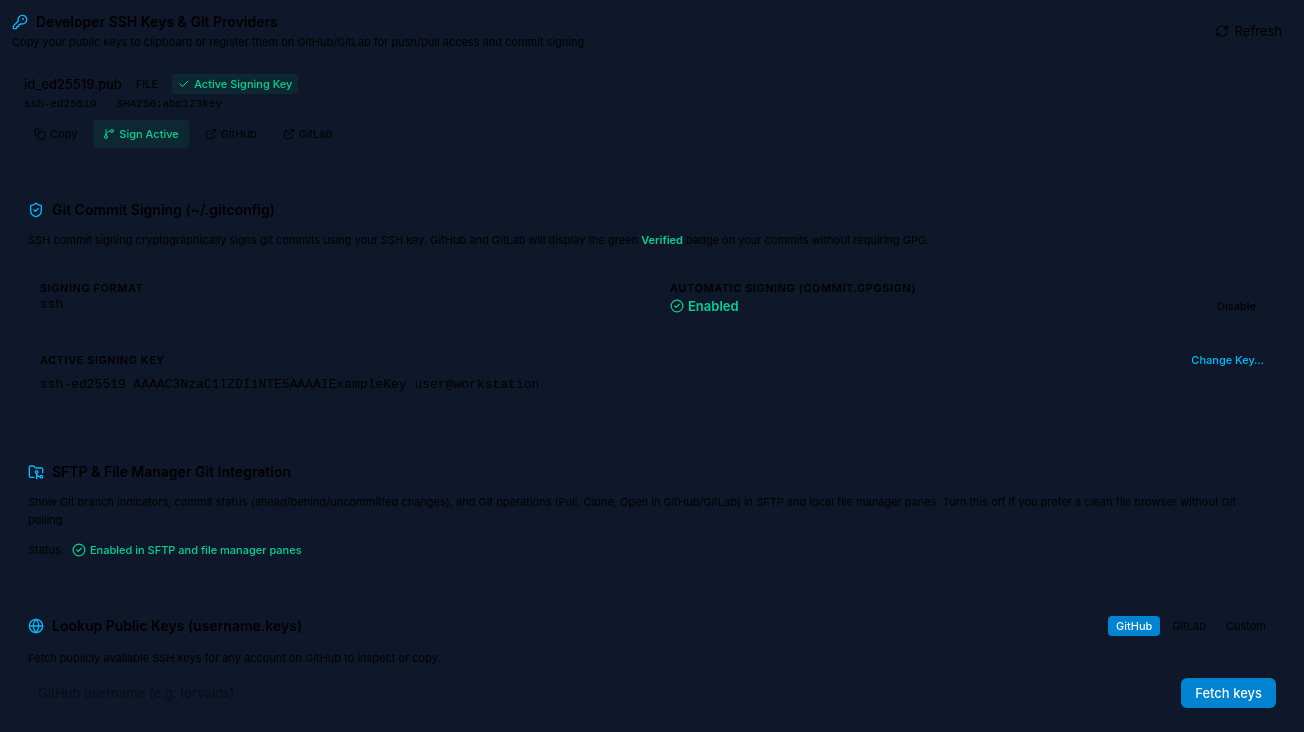
Test case: GitSettingsPanel › copies key to clipboard when clicking Copy button
Expected: the text "id_ed25519.pub" is shown, [24, 75, 122, 93]
What coordinates should you click on to do the following:
click the button "Copy"
I would click on:
 (56, 134)
Its box is [24, 120, 87, 148].
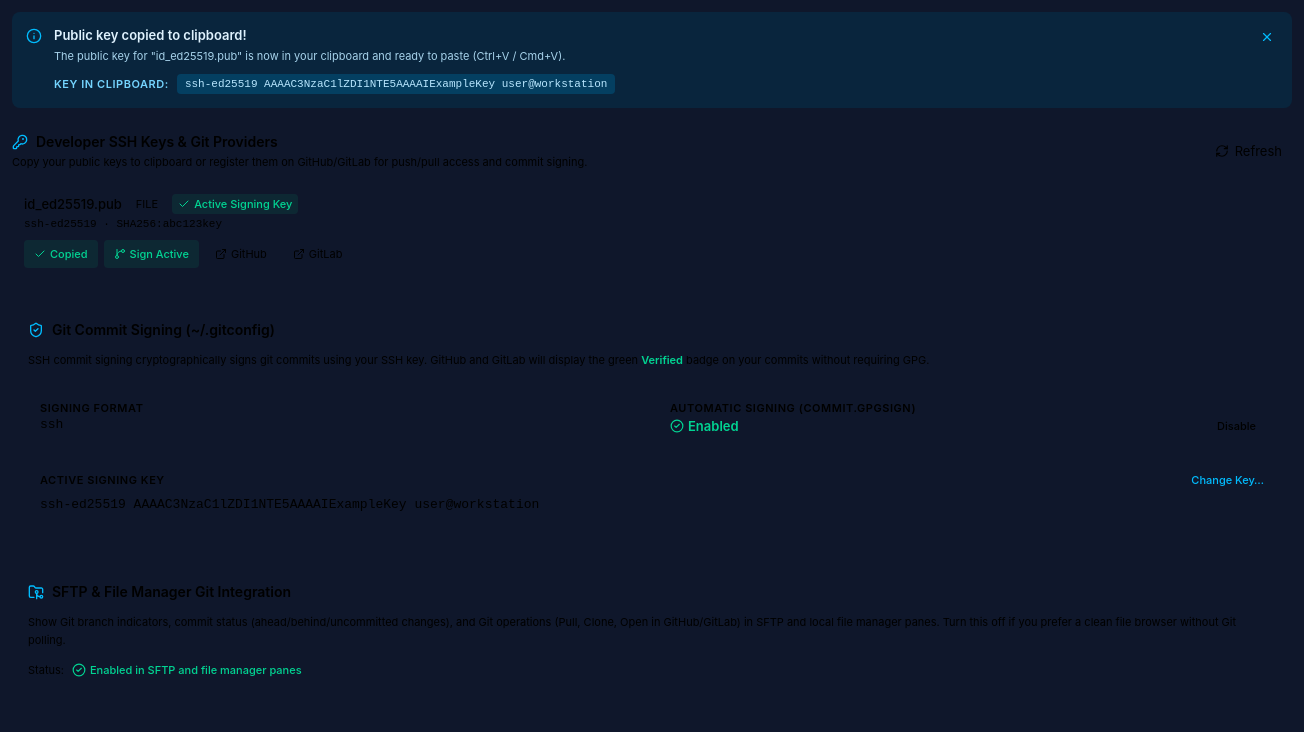
Now the element with test id "git-notice-banner" is shown, box [12, 12, 1292, 108]
Now the element with test id "git-notice-banner" shows "Public key copied to clipboard", box [54, 27, 247, 43]
